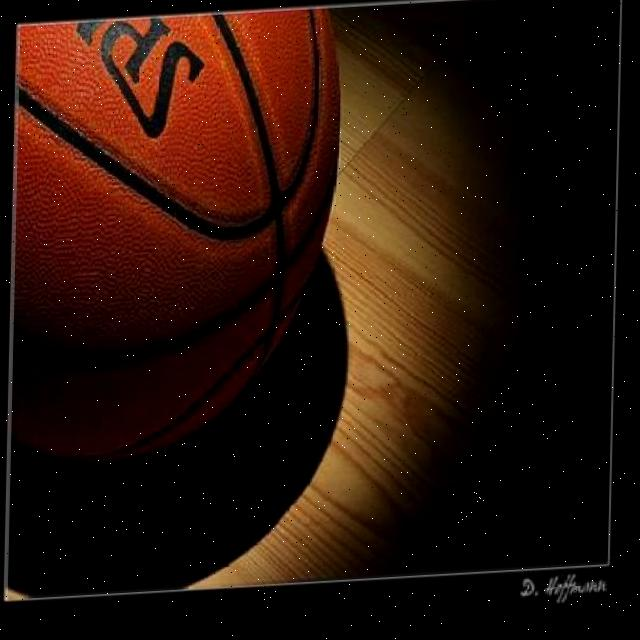Basketball: (5, 2, 344, 466)
